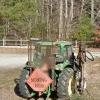Tractor: (11, 26, 92, 100)
